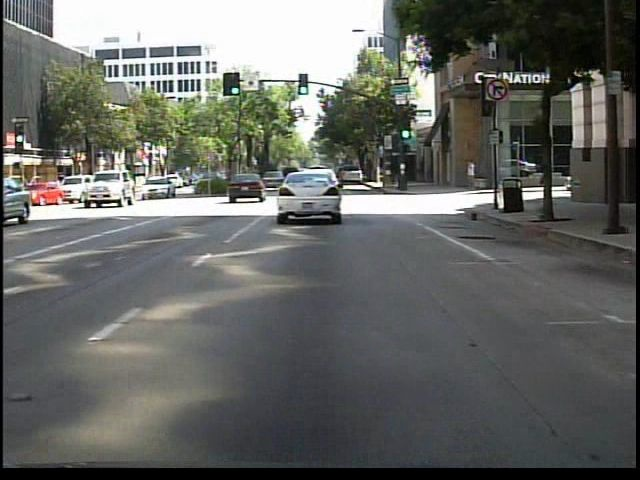person: (463, 154, 479, 194)
